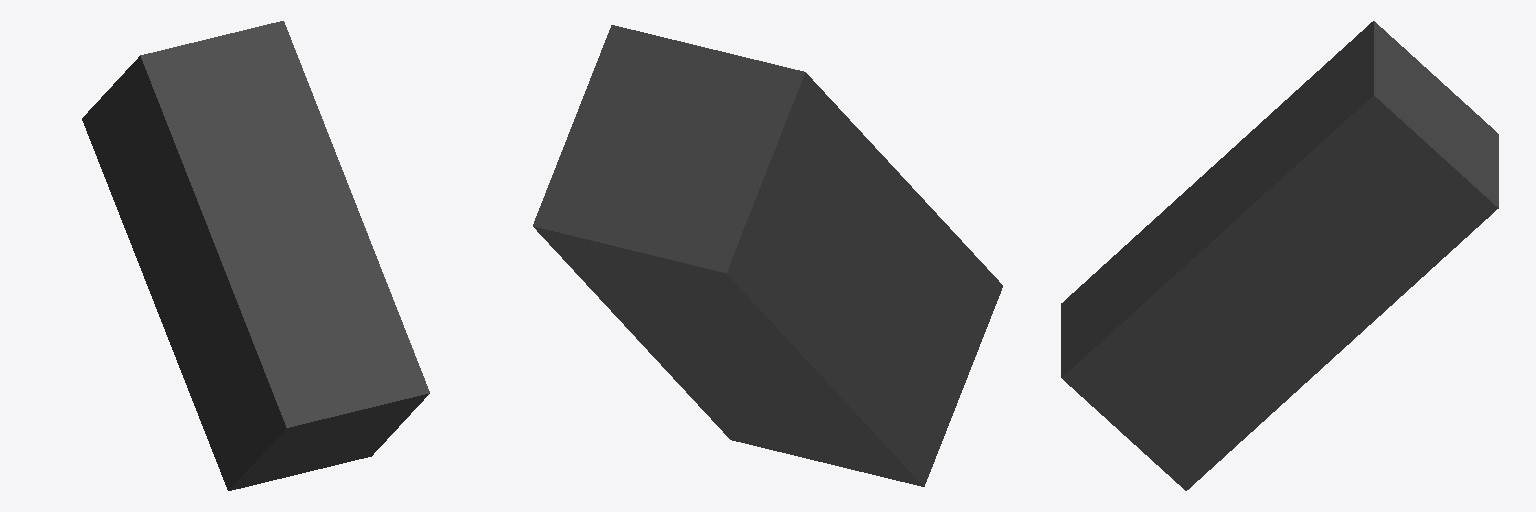
robot.urdf — hsrb:
<?xml version="1.0" ?>
<!-- =================================================================================== -->
<!-- |    This document was autogenerated by xacro from /tmp/buildd/ros-kinetic-hsrb-description-0.18.1/robots/hsrb4s.urdf.xacro | -->
<!-- |    EDITING THIS FILE BY HAND IS NOT RECOMMENDED                                 | -->
<!-- =================================================================================== -->
<robot name="hsrb" xmlns:controller="http://playerstage.sourceforge.net/gazebo/xmlschema/#controller" xmlns:interface="http://playerstage.sourceforge.net/gazebo/xmlschema/#interface" xmlns:sensor="http://playerstage.sourceforge.net/gazebo/xmlschema/#sensor" xmlns:xacro="http://ros.org/wiki/xacro">
  <material name="body_main">
    <color rgba="1.0 0.0 0.0 1.0"/>
  </material>
  <material name="body_sub">
    <color rgba="0.33 0.33 0.33 1.0"/>
  </material>
  <material name="wheel">
    <color rgba="0.2 0.2 0.2 1.0"/>
  </material>
  <material name="black">
    <color rgba="0.1 0.1 0.1 1.0"/>
  </material>
  <material name="tablet">
    <color rgba="0.1 0.1 0.2 1.0"/>
  </material>

  <link name="wrist_roll_link">
  </link>
  <joint name="hand_palm_joint" type="fixed">
    <origin rpy="0.0 0.0 3.14159265359" xyz="0.012 0.0 0.1405"/>
    <parent link="wrist_roll_link"/>
    <child link="hand_palm_link"/>
  </joint>
  <link name="hand_palm_link">
    <inertial>
      <mass value="0.15"/>
      <inertia ixx="0.015" ixy="0.0" ixz="0.0" iyy="0.015" iyz="0.0" izz="0.015"/>
    </inertial>
    <visual>
      <geometry>
        <mesh filename="package://hsrb_description/meshes/hand_v0/palm_light.dae"/>
      </geometry>
    </visual>
    <collision>
      <geometry>
        <mesh filename="package://hsrb_description/meshes/hand_v0/palm.stl"/>
      </geometry>
    </collision>
  </link>
  <joint name="hand_l_proximal_joint" type="revolute">
    <origin rpy="0.0 0.0 0.0" xyz="-0.01675 -0.0245 -0.0175"/>
    <axis xyz="1.0 0.0 0.0"/>
    <limit effort="100.0" lower="-0.798" upper="1.24" velocity="1.0"/>
    <parent link="hand_palm_link"/>
    <child link="hand_l_proximal_link"/>
    <mimic joint="hand_motor_joint"/>
    <dynamics damping="0.0001" friction="0.0001"/>
  </joint>
  <link name="hand_l_proximal_link">
    <inertial>
      <mass value="0.01"/>
      <inertia ixx="0.0015" ixy="0.0" ixz="0.0" iyy="0.0015" iyz="0.0" izz="0.0015"/>
    </inertial>
  </link>
  <joint name="hand_l_spring_proximal_joint" type="revolute">
    <axis xyz="1.0 0.0 0.0"/>
    <limit effort="10.0" lower="0.0" upper="0.698" velocity="1.0"/>
    <parent link="hand_l_proximal_link"/>
    <child link="hand_l_spring_proximal_link"/>
    <dynamics damping="0.0001" friction="0.0001"/>
  </joint>
  <link name="hand_l_spring_proximal_link">
    <inertial>
      <mass value="0.043589"/>
      <origin xyz="0.021418 0.00248 0.022688"/>
      <inertia ixx="0.000026033886" ixy="-0.000000144078" ixz="-0.00000198241" iyy="0.000028824811" iyz="-0.000001268421" izz="0.000005135919"/>
    </inertial>
    <visual>
      <geometry>
        <mesh filename="package://hsrb_description/meshes/hand_v0/l_proximal.dae"/>
      </geometry>
    </visual>
    <collision>
      <geometry>
        <mesh filename="package://hsrb_description/meshes/hand_v0/l_proximal.stl"/>
      </geometry>
    </collision>
  </link>
  <joint name="hand_l_mimic_distal_joint" type="revolute">
    <origin xyz="0.0 0.0 0.07"/>
    <axis xyz="1.0 0.0 0.0"/>
    <limit effort="100.0" lower="-0.698" upper="-0.0" velocity="1.0"/>
    <parent link="hand_l_spring_proximal_link"/>
    <child link="hand_l_mimic_distal_link"/>
    <mimic joint="hand_l_spring_proximal_joint" multiplier="-1.0"/>
    <dynamics damping="0.001" friction="0.001"/>
  </joint>
  <link name="hand_l_mimic_distal_link">
    <inertial>
      <mass value="0.01"/>
      <inertia ixx="0.0015" ixy="0.0" ixz="0.0" iyy="0.0015" iyz="0.0" izz="0.0015"/>
    </inertial>
  </link>

  <joint name="hand_l_distal_joint" type="revolute"> <!-- this is the joint in the finger tip -->
    <axis xyz="1.0 0.0 0.0"/>
    <limit effort="100.0" lower="-1.24" upper="0.798" velocity="1.0"/>
    <parent link="hand_l_mimic_distal_link"/>
    <child link="hand_l_distal_link"/>
    <mimic joint="hand_motor_joint" multiplier="-1.0" offset="-0.087"/>
    <dynamics damping="0.01" friction="0.01"/>
  </joint>
  <link name="hand_l_distal_link">
    <inertial>
      <mass value="0.027731"/>
      <origin xyz="0.011116 0.005679 0.017532"/>
      <inertia ixx="0.000004451952" ixy="-0.000000617574" ixz="0.000000503765" iyy="0.000000503765" iyz="-0.000000435048" izz="0.000004456764"/>
    </inertial>
    <visual>
      <geometry>
        <mesh filename="package://hsrb_description/meshes/hand_v0/l_distal.dae"/>
      </geometry>
    </visual>
    <collision>
      <geometry>
        <mesh filename="package://hsrb_description/meshes/hand_v0/l_distal.stl"/>
      </geometry>
    </collision>
  </link>
  <joint name="hand_l_finger_tip_frame_joint" type="fixed">
    <origin rpy="-1.57079632679 0.0 0.0" xyz="0.01675 0.01865 0.04289"/>
    <parent link="hand_l_distal_link"/>
    <child link="hand_l_finger_tip_frame"/>
    <dynamics damping="0.001" friction="0.001"/>
  </joint>
  <link name="hand_l_finger_tip_frame">
    <inertial>
      <mass value="0.01"/>
      <inertia ixx="0.0015" ixy="0.0" ixz="0.0" iyy="0.0015" iyz="0.0" izz="0.0015"/>
    </inertial>
  </link>
  <joint name="hand_l_finger_vacuum_frame_joint" type="fixed">
    <origin rpy="0.785398163397 0.0 0.0" xyz="0.00475 -0.011539 0.03322"/>
    <parent link="hand_l_distal_link"/>
    <child link="hand_l_finger_vacuum_frame"/>
  </joint>
  <link name="hand_l_finger_vacuum_frame">
    <inertial>
      <mass value="0.01"/>
      <inertia ixx="0.0015" ixy="0.0" ixz="0.0" iyy="0.0015" iyz="0.0" izz="0.0015"/>
    </inertial>
    <visual>
      <origin rpy="0.0 0.0 0.0" xyz="0.0 0.0 -0.01"/>
      <geometry>
        <box size="0.008 0.008 0.02"/>
      </geometry>
      <material name="body_sub"/>
    </visual>
  </link>
  <joint name="hand_r_proximal_joint" type="revolute">
    <origin rpy="0.0 0.0 0.0" xyz="-0.01675 0.0245 -0.0175"/>
    <axis xyz="-1.0 0.0 0.0"/>
    <limit effort="100.0" lower="-0.798" upper="1.24" velocity="1.0"/>
    <parent link="hand_palm_link"/>
    <child link="hand_r_proximal_link"/>
    <mimic joint="hand_motor_joint"/>
    <dynamics damping="0.0001" friction="0.0001"/>
  </joint>
  <link name="hand_r_proximal_link">
    <inertial>
      <mass value="0.01"/>
      <inertia ixx="0.0015" ixy="0.0" ixz="0.0" iyy="0.0015" iyz="0.0" izz="0.0015"/>
    </inertial>
  </link>
  <joint name="hand_r_spring_proximal_joint" type="revolute">
    <axis xyz="-1.0 0.0 0.0"/>
    <limit effort="10.0" lower="0.0" upper="0.698" velocity="1.0"/>
    <parent link="hand_r_proximal_link"/>
    <child link="hand_r_spring_proximal_link"/>
    <dynamics damping="0.0001" friction="0.0001"/>
  </joint>
  <link name="hand_r_spring_proximal_link">
    <inertial>
      <mass value="0.043956"/>
      <origin xyz="0.013203 0.002096 0.023311"/>
      <inertia ixx="0.00002623664" ixy="0.00000001631" ixz="0.000001281845" iyy="0.000028838232" iyz="-0.000001621709" izz="0.000004957151"/>
    </inertial>
    <visual>
      <geometry>
        <mesh filename="package://hsrb_description/meshes/hand_v0/r_proximal.dae"/>
      </geometry>
    </visual>
    <collision>
      <geometry>
        <mesh filename="package://hsrb_description/meshes/hand_v0/r_proximal.stl"/>
      </geometry>
    </collision>
  </link>
  <joint name="hand_r_mimic_distal_joint" type="revolute">
    <origin xyz="0.0 0.0 0.07"/>
    <axis xyz="-1.0 0.0 0.0"/>
    <limit effort="100.0" lower="-0.698" upper="-0.0" velocity="1.0"/>
    <parent link="hand_r_spring_proximal_link"/>
    <child link="hand_r_mimic_distal_link"/>
    <mimic joint="hand_r_spring_proximal_joint" multiplier="-1.0"/>
    <dynamics damping="0.001" friction="0.001"/>
  </joint>
  <link name="hand_r_mimic_distal_link">
    <inertial>
      <mass value="0.01"/>
      <inertia ixx="0.0015" ixy="0.0" ixz="0.0" iyy="0.0015" iyz="0.0" izz="0.0015"/>
    </inertial>
  </link>
  <joint name="hand_r_distal_joint" type="revolute"> <!-- this is the joint in the finger tip, originally revolute -->
    <axis xyz="-1.0 0.0 0.0"/>
    <limit effort="100.0" lower="-1.24" upper="0.798" velocity="1.0"/>
    <parent link="hand_r_mimic_distal_link"/>
    <child link="hand_r_distal_link"/>
    <mimic joint="hand_motor_joint" multiplier="-1.0" offset="-0.087"/>
    <dynamics damping="0.01" friction="0.01"/>
  </joint>
  <link name="hand_r_distal_link">
    <inertial>
      <mass value="0.020927"/>
      <origin xyz="0.014256 -0.008321 0.015591"/>
      <inertia ixx="0.00000307518" ixy="-0.00000004954" ixz="0.000000009481" iyy="0.000004074079" iyz="0.000000843648" izz="0.000002807795"/>
    </inertial>
    <visual>
      <geometry>
        <mesh filename="package://hsrb_description/meshes/hand_v0/r_distal.dae"/>
      </geometry>
    </visual>
    <collision>
      <geometry>
        <mesh filename="package://hsrb_description/meshes/hand_v0/r_distal.stl"/>
      </geometry>
    </collision>
  </link>
  <joint name="hand_r_finger_tip_frame_joint" type="fixed">
    <origin rpy="1.57079632679 0.0 0.0" xyz="0.01675 -0.01865 0.04289"/>
    <parent link="hand_r_distal_link"/>
    <child link="hand_r_finger_tip_frame"/>
  </joint>
  <link name="hand_r_finger_tip_frame">
    <inertial>
      <mass value="0.01"/>
      <inertia ixx="0.0015" ixy="0.0" ixz="0.0" iyy="0.0015" iyz="0.0" izz="0.0015"/>
    </inertial>
  </link>


  <transmission name="hand_motor_joint_transmission">
    <type>transmission_interface/SimpleTransmission</type>
    <joint name="hand_motor_joint">
      <hardwareInterface>hardware_interface/EffortJointInterface</hardwareInterface>
    </joint>
    <actuator name="hand_motor_joint_actuator">
      <hardwareInterface>hardware_interface/EffortJointInterface</hardwareInterface>
      <mechanicalReduction>1</mechanicalReduction>
    </actuator>
  </transmission>
  <transmission name="hand_l_spring_proximal_joint_transmission">
    <type>transmission_interface/SimpleTransmission</type>
    <joint name="hand_l_spring_proximal_joint">
      <hardwareInterface>hardware_interface/EffortJointInterface</hardwareInterface>
    </joint>
    <actuator name="hand_l_spring_proximal_joint_actuator">
      <hardwareInterface>hardware_interface/EffortJointInterface</hardwareInterface>
      <mechanicalReduction>1</mechanicalReduction>
    </actuator>
  </transmission>
  <transmission name="hand_r_spring_proximal_joint_transmission">
    <type>transmission_interface/SimpleTransmission</type>
    <joint name="hand_r_spring_proximal_joint">
      <hardwareInterface>hardware_interface/EffortJointInterface</hardwareInterface>
    </joint>
    <actuator name="hand_r_spring_proximal_joint_actuator">
      <hardwareInterface>hardware_interface/EffortJointInterface</hardwareInterface>
      <mechanicalReduction>1</mechanicalReduction>
    </actuator>
  </transmission>
</robot>

--- What the picture shows (computed from the rendered views, not written in the file) ---
3 views of the same robot in one strip: view 1: azimuth 30°, elevation 25°; view 2: azimuth 150°, elevation 25°; view 3: azimuth 270°, elevation 25° (orthographic).
Robot: hsrb — 13 links, 12 joints (8 revolute, 4 fixed); root link wrist_roll_link; default pose: every joint at zero.
Links seen in each view (by area): view 1: hand_l_finger_vacuum_frame; view 2: hand_l_finger_vacuum_frame; view 3: hand_l_finger_vacuum_frame.
Link boxes in pixels (bbox=[...]): hand_l_finger_vacuum_frame: bbox=[82, 21, 429, 490]; hand_l_finger_vacuum_frame: bbox=[533, 25, 1002, 486]; hand_l_finger_vacuum_frame: bbox=[1061, 21, 1498, 490].
Bounding box of the posed robot: 0.008 × 0.0198 × 0.0198 m (x, y, z).
Meshes: 5 distinct files referenced, 0 mesh visuals loaded (none loaded); not drawn: 5 (reference not matched to a file when rendering).